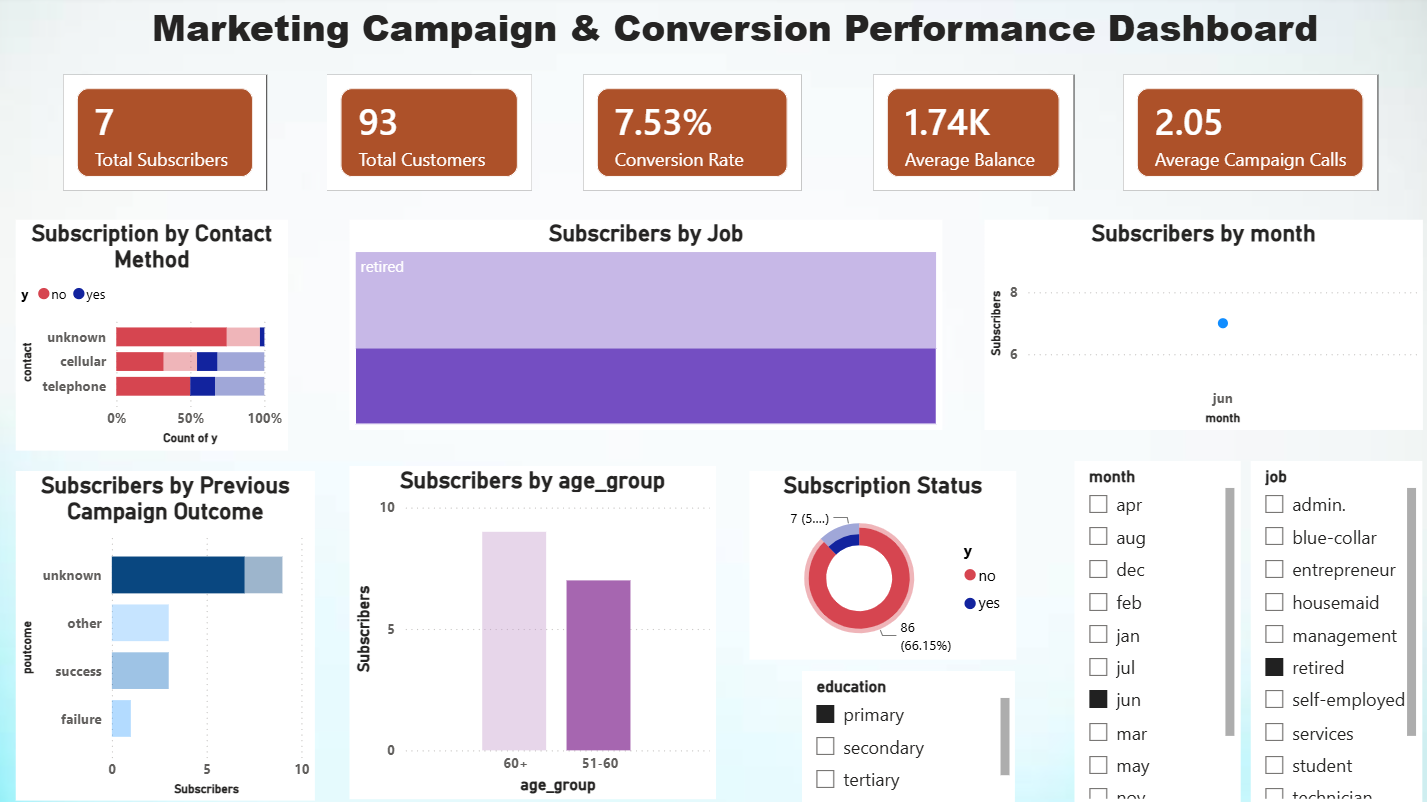

The dashboard page shown, as its layout file describes it:
{"tool":"powerbi","page":{"name":"Page 1","canvas":[1280,720],"ordinal":0},"visuals":[{"type":"cardVisual","fields":{"Data":["bank_marketing_cleaned.Total Subscribers"]},"box":[58.8,69.6,181.3,103.3],"z":0},{"type":"cardVisual","fields":{"Data":["bank_marketing_cleaned.Total Customers"]},"box":[294.2,69.6,182.5,103.3],"z":1000},{"type":"cardVisual","fields":{"Data":["bank_marketing_cleaned.Conversion Rate"]},"box":[522.3,69.6,194.5,103.3],"z":2000},{"type":"cardVisual","fields":{"Data":["bank_marketing_cleaned.Average Balance"]},"box":[780.5,69.6,178.9,103.3],"z":3000},{"type":"cardVisual","fields":{"Data":["bank_marketing_cleaned.Average Campaign Calls"]},"box":[1002.6,69.6,226.9,103.3],"z":4000},{"type":"donutChart","title":"Subscription Status","fields":{"Category":["bank_marketing_cleaned.y"],"Y":["CountNonNull(bank_marketing_cleaned.y)"]},"box":[670,422.7,237.7,168.1],"z":5000},{"type":"treemap","title":"Subscribers by Job","fields":{"Group":["bank_marketing_cleaned.job"],"Values":["bank_marketing_cleaned.Subscribers"]},"box":[313.4,199.3,528.3,187.3],"z":5001},{"type":"lineChart","fields":{"Y":["bank_marketing_cleaned.Subscribers"],"Category":["bank_marketing_cleaned.month"]},"box":[878.9,199.3,390.2,187.3],"z":5002},{"type":"hundredPercentStackedBarChart","title":"Subscription by Contact Method","fields":{"Category":["bank_marketing_cleaned.contact"],"Series":["bank_marketing_cleaned.y"],"Y":["CountNonNull(bank_marketing_cleaned.y)"]},"box":[16.8,199.3,242.6,205.3],"z":5003},{"type":"clusteredColumnChart","fields":{"Category":["bank_marketing_cleaned.age_group"],"Y":["bank_marketing_cleaned.Subscribers"]},"box":[313.9,418.6,326.2,297.2],"z":5004},{"type":"clusteredBarChart","title":"Subscribers by Previous Campaign Outcome","fields":{"Category":["bank_marketing_cleaned.poutcome"],"Y":["bank_marketing_cleaned.Subscribers"]},"box":[16.8,422.7,266.6,294.2],"z":5005},{"type":"slicer","fields":{"Values":["bank_marketing_cleaned.month"]},"box":[959.4,414.3,147.7,306.2],"z":5006},{"type":"slicer","fields":{"Values":["bank_marketing_cleaned.job"]},"box":[1116.7,414.3,152.5,306.2],"z":5007},{"type":"slicer","fields":{"Values":["bank_marketing_cleaned.education"]},"box":[716.8,601.6,189.7,118.9],"z":5008},{"type":"textbox","box":[99.7,0,1114.3,69.6],"z":5009}]}

Visuals, with their boxes in screenshot pixels (x1, y1, x2, y2), scaled from the page's 1280x720 canvas onto the 1427x802 screenshot:
cardVisual - bank_marketing_cleaned.Total Subscribers: crop(66, 78, 268, 193)
cardVisual - bank_marketing_cleaned.Total Customers: crop(328, 78, 531, 193)
cardVisual - bank_marketing_cleaned.Conversion Rate: crop(582, 78, 799, 193)
cardVisual - bank_marketing_cleaned.Average Balance: crop(870, 78, 1070, 193)
cardVisual - bank_marketing_cleaned.Average Campaign Calls: crop(1118, 78, 1371, 193)
"Subscription Status" donutChart: crop(747, 471, 1012, 658)
"Subscribers by Job" treemap: crop(349, 222, 938, 431)
lineChart - bank_marketing_cleaned.Subscribers x bank_marketing_cleaned.month: crop(980, 222, 1415, 431)
"Subscription by Contact Method" hundredPercentStackedBarChart: crop(19, 222, 289, 451)
clusteredColumnChart - bank_marketing_cleaned.age_group x bank_marketing_cleaned.Subscribers: crop(350, 466, 714, 797)
"Subscribers by Previous Campaign Outcome" clusteredBarChart: crop(19, 471, 316, 799)
slicer - bank_marketing_cleaned.month: crop(1070, 461, 1234, 801)
slicer - bank_marketing_cleaned.job: crop(1245, 461, 1415, 801)
slicer - bank_marketing_cleaned.education: crop(799, 670, 1011, 801)
textbox: crop(111, 0, 1353, 78)
